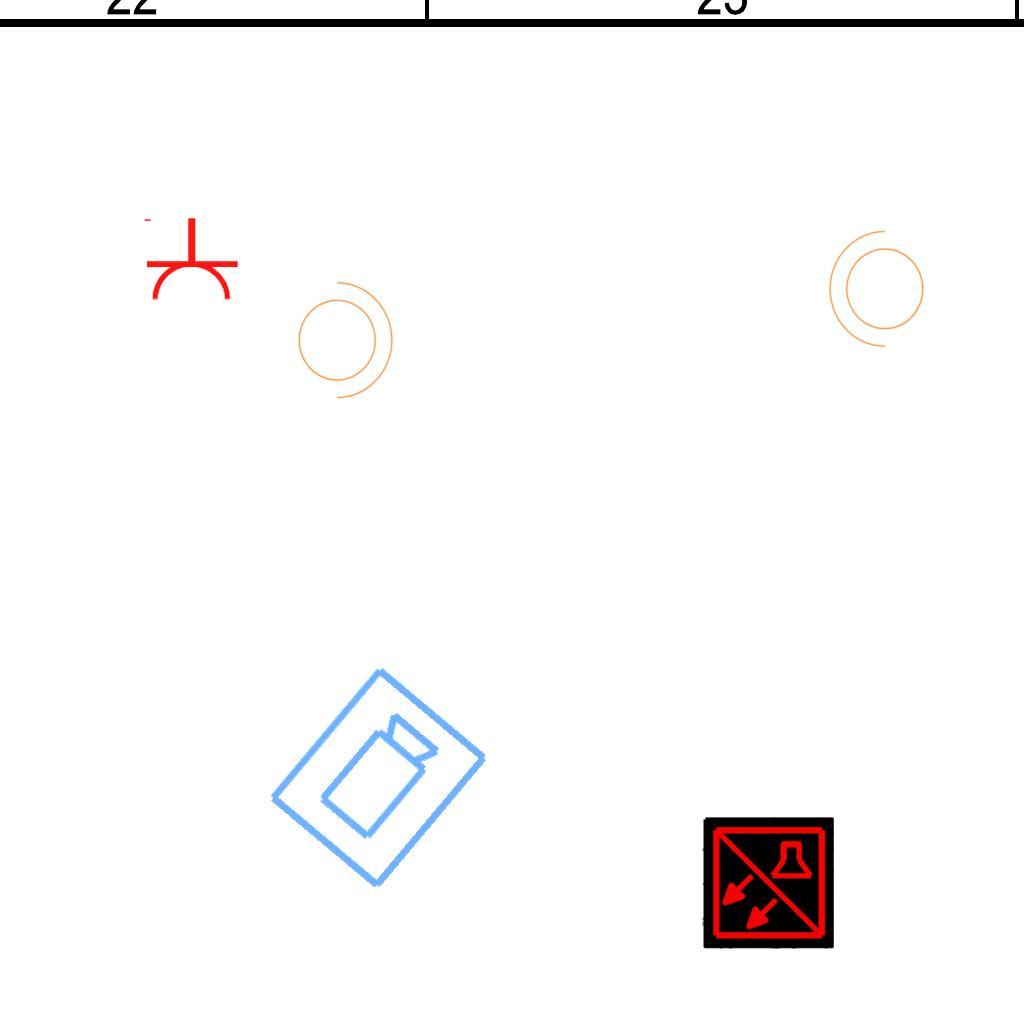KFO_Kamera_mit_Festobjektiv: (261, 659, 497, 899)
OKW_Multisensormelder_(Kombination_optischer_Rauch-Kahlenmonoxid_Waerme-Melder): (702, 817, 834, 949)
Scheinwerfer_fuer_Alarmbeleuchtung: (824, 226, 936, 358), (286, 271, 398, 403)
Schukosteckdose_einfach: (140, 216, 240, 303)
